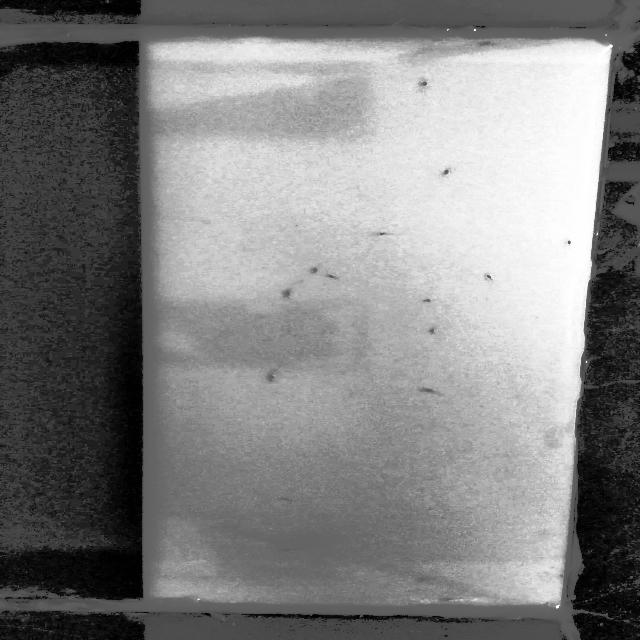shrimp: (413, 384, 447, 397), (475, 270, 500, 282), (273, 495, 302, 504), (416, 325, 439, 336), (414, 297, 442, 306), (274, 544, 296, 555), (262, 366, 277, 381), (323, 274, 348, 282), (278, 287, 297, 297), (562, 237, 576, 250), (442, 593, 458, 603), (479, 39, 495, 49), (418, 77, 432, 88), (416, 575, 434, 583), (369, 229, 389, 236), (438, 168, 459, 174), (308, 266, 321, 274)
